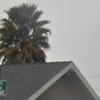Tree: (2, 2, 53, 61)
